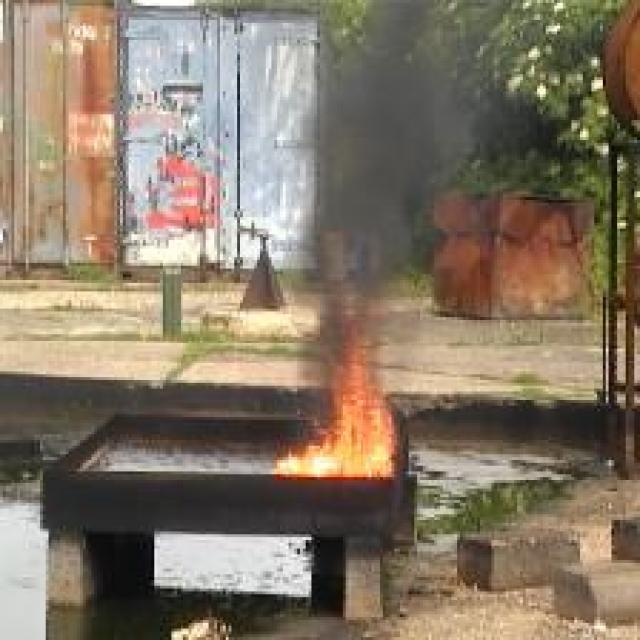Fire: (276, 306, 396, 477)
